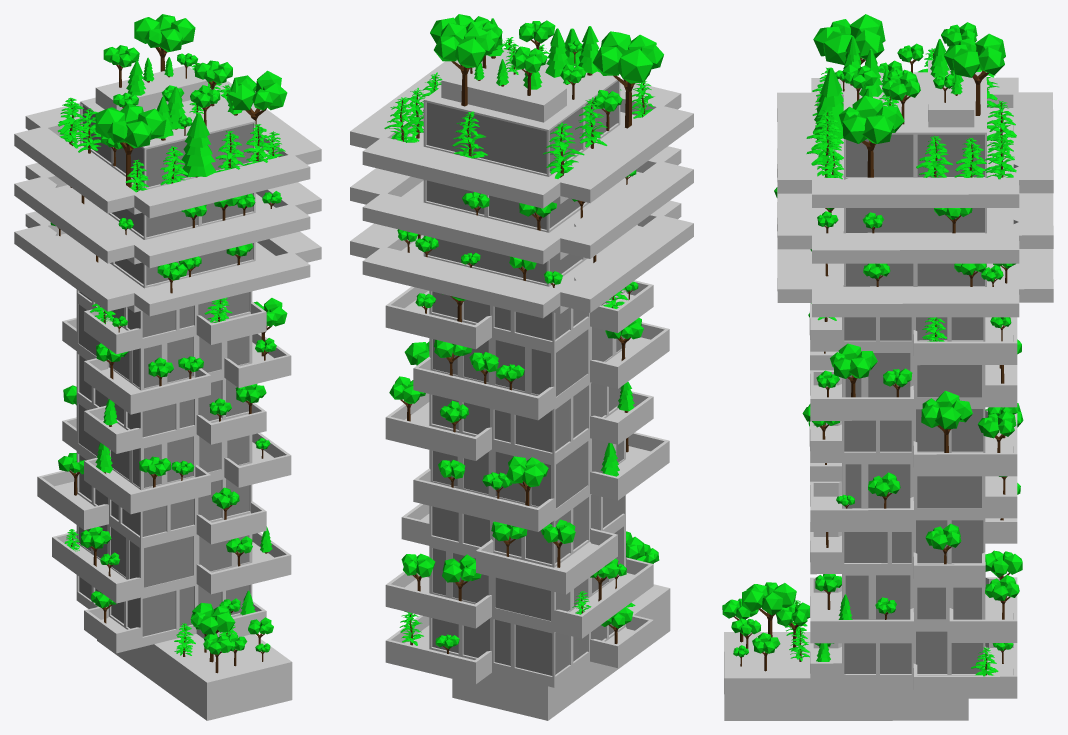
The model's file is short_building.fbx.
3 renders of one model, left to right at view 1: azimuth 30°, elevation 25°; view 2: azimuth 150°, elevation 25°; view 3: azimuth 270°, elevation 25°, orthographic. The views are drawn at different scales.
Visible parts, largest first — view 1: Cube.240; view 2: Cube.240; view 3: Cube.240.
Part boxes in pixels (box(x1,y1,x2,y2)): Cube.240: box(14, 14, 321, 720); Cube.240: box(350, 14, 693, 720); Cube.240: box(722, 14, 1053, 720).
Bounding box in the file's own units: 1298 × 1555 × 3481.
